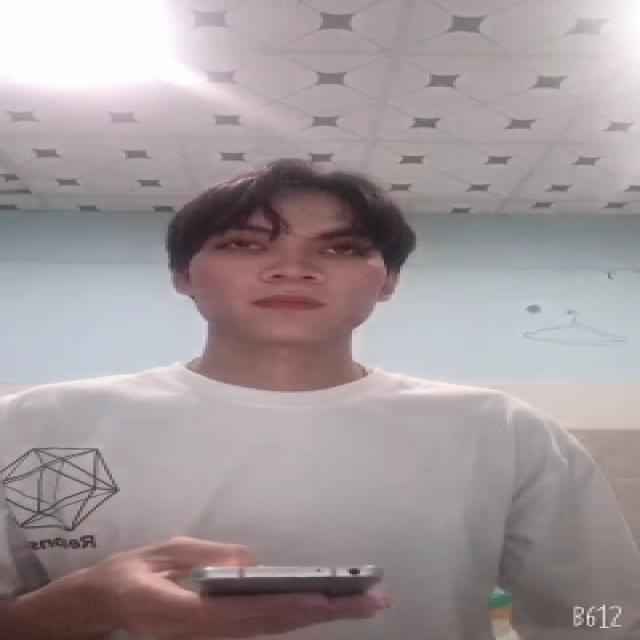Phone: (196, 559, 390, 599)
